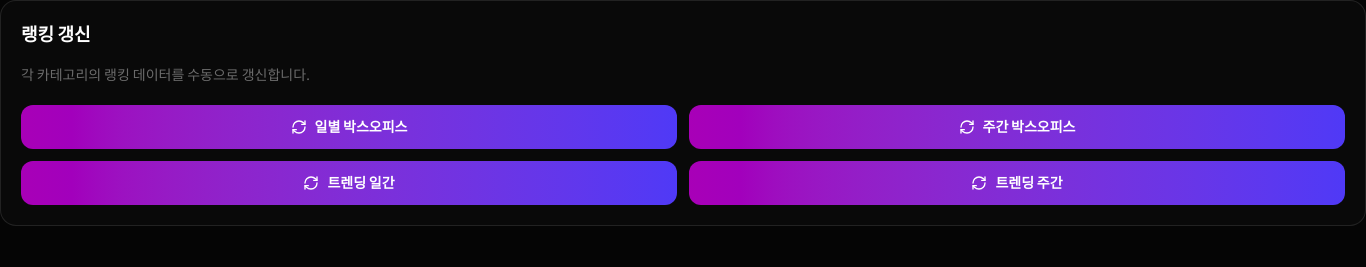
Scenario: RankingRefresh › 성공 시 "갱신 완료" 메시지를 표시해야 한다
The image size is (1366, 267).
Click the button "주간 박스오피스".
click(1017, 127)  # box [689, 105, 1345, 149]
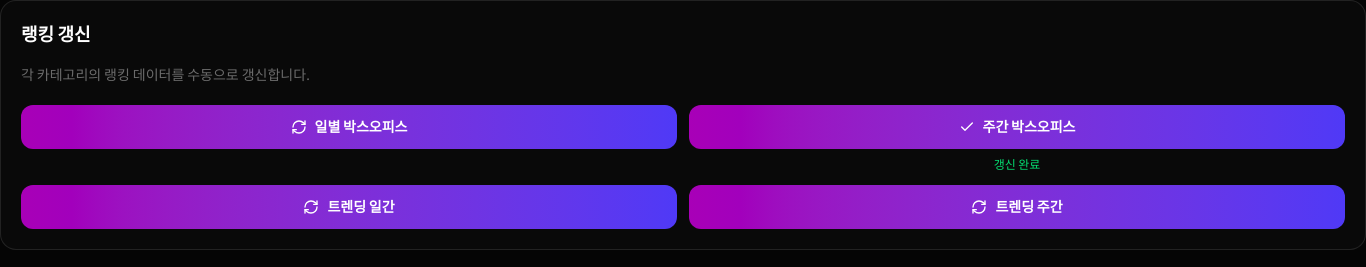
Now the text "갱신 완료" is shown, box [994, 157, 1040, 172]
